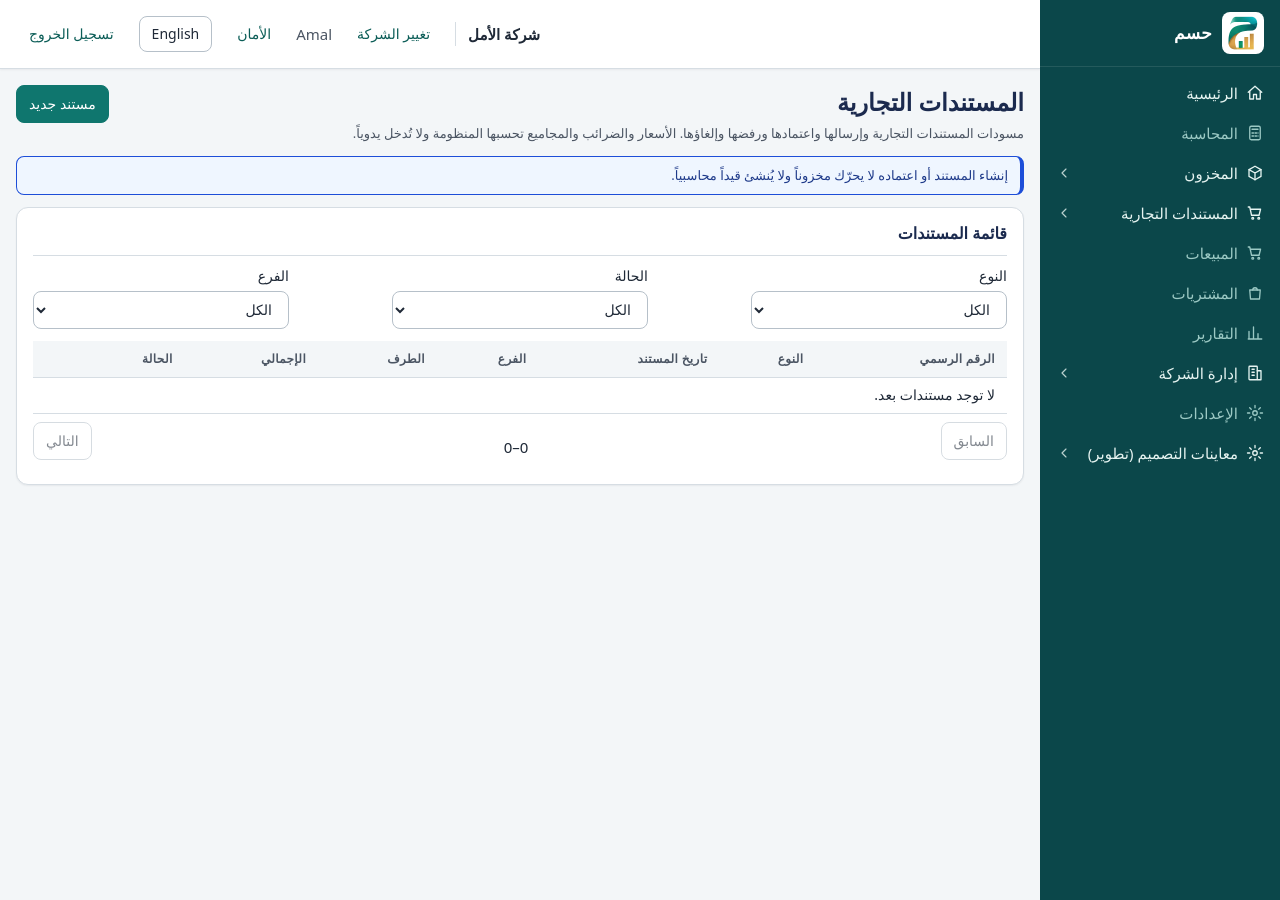
commercial document editor (drafts) › validates before sending (party, currency, quantity) and moves to the tab with the first error
This screenshot has width=1280, height=900.
Expected: the element with test id "company-name" is shown, [455,22,540,46]
Click the button "مستند جديد": (62, 104) [16,85,109,123]
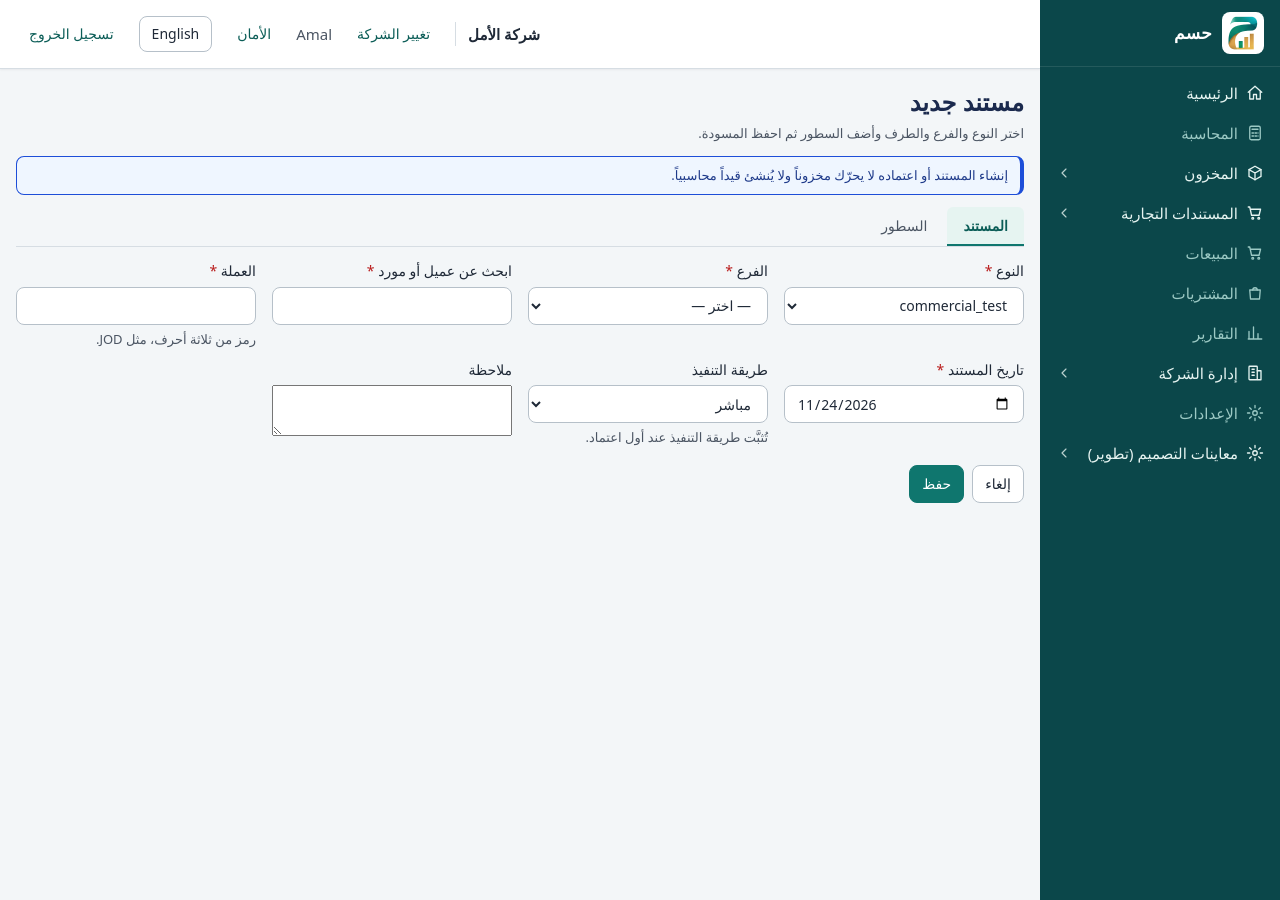
Click the button "حفظ": (937, 484) [909,464,964,502]
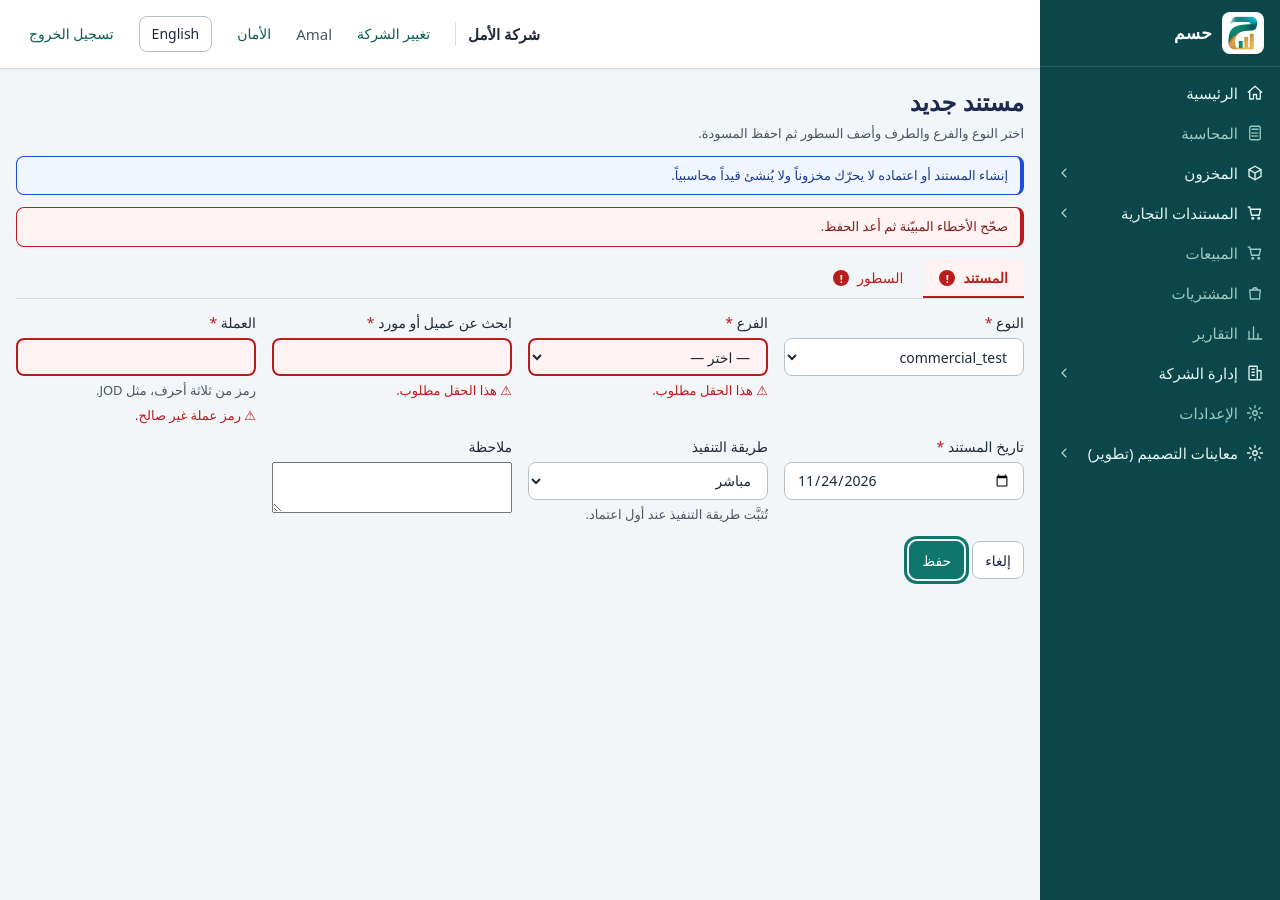
Result: the message with test id "form-error" shows "صحّح" at [821,218,1008,236]
Result: the 2nd text "هذا الحقل مطلوب." is shown at [652,381,753,399]
